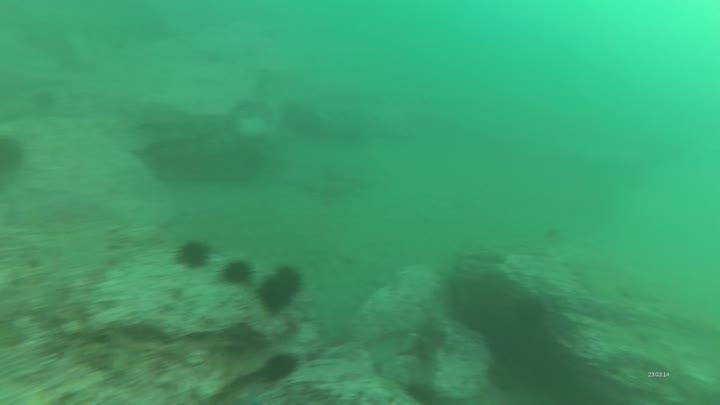echinus: (255, 270, 299, 315), (510, 294, 550, 334), (259, 350, 301, 385), (173, 237, 214, 272), (0, 132, 28, 177), (271, 263, 306, 299), (218, 256, 256, 288)
